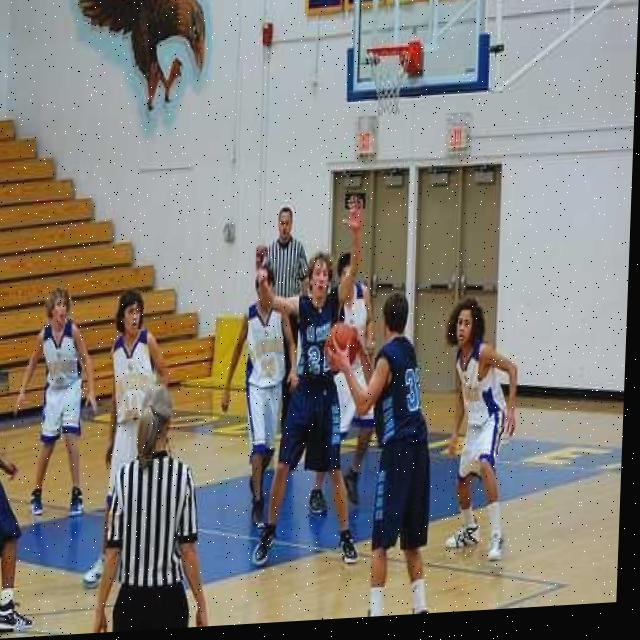basketball: (325, 321, 360, 371)
hoop: (362, 41, 417, 121)
